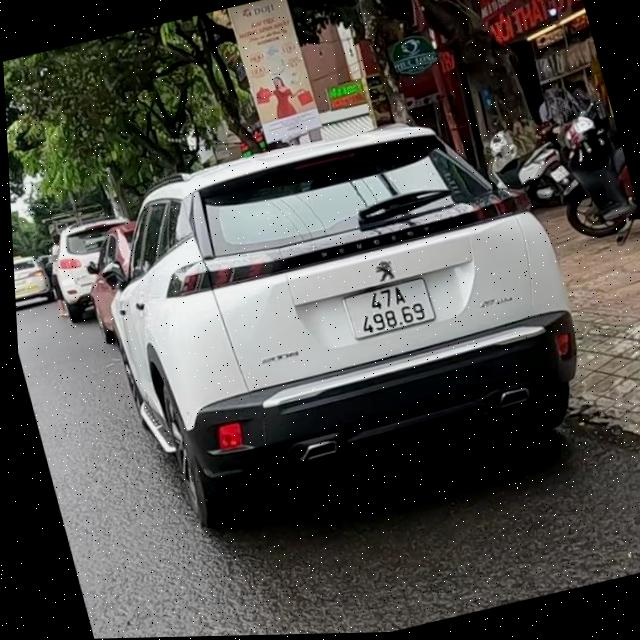car: (67, 83, 616, 548), (43, 210, 149, 324), (13, 244, 53, 317)
motorcycle: (537, 102, 640, 253), (472, 110, 579, 217)
plate: (334, 267, 445, 348)
